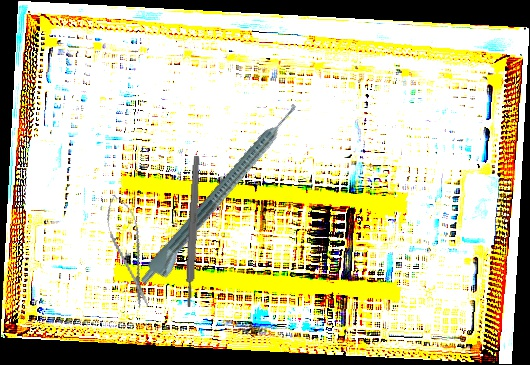Handpiece: (136, 100, 309, 294)
Micro Scissor: (98, 190, 160, 313)
Scalpel Handle: (184, 155, 201, 308)
